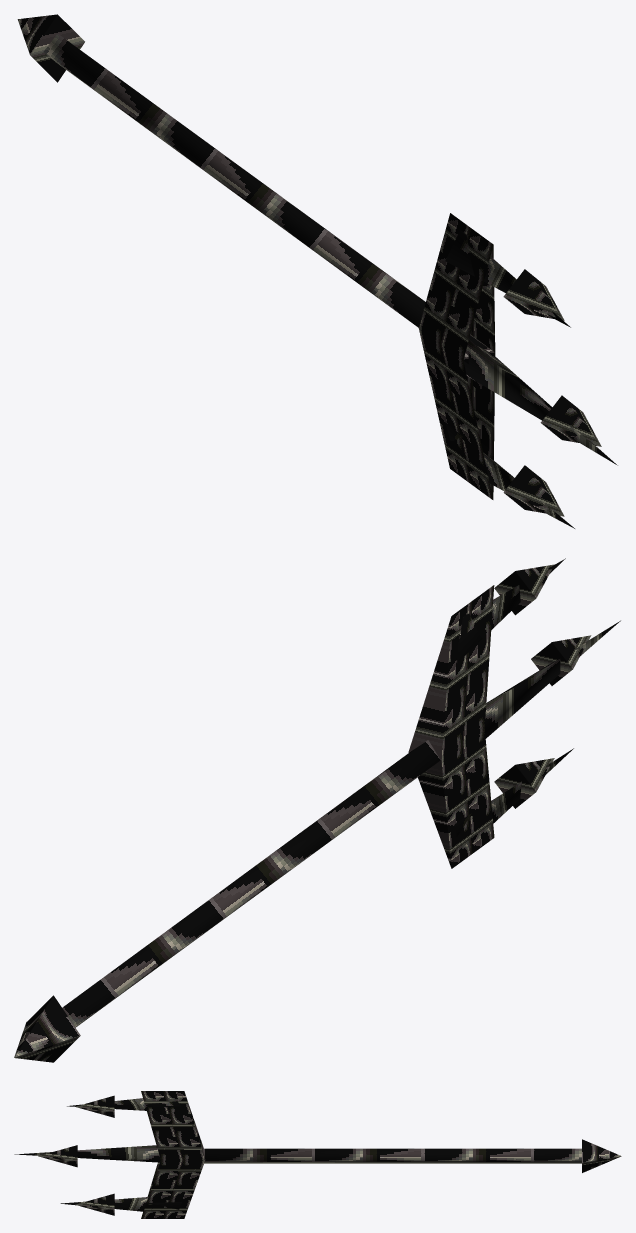
The model's file is 1469sbim02_09.gltf.
3 renders of one model, top to bottom at view 1: azimuth 30°, elevation 25°; view 2: azimuth 150°, elevation 25°; view 3: azimuth 270°, elevation 25°, orthographic. The views are drawn at different scales.
Parts seen in each view (by area): view 1: 1469sbim02_09; view 2: 1469sbim02_09; view 3: 1469sbim02_09.
Part boxes in pixels (x1,y1,x2,y2): 1469sbim02_09: (17, 14, 617, 528); 1469sbim02_09: (14, 558, 620, 1062); 1469sbim02_09: (14, 1091, 621, 1218).
Bounding box in the file's own units: 0.0674 × 0.2983 × 1.28.
1 material, 1 textured.
